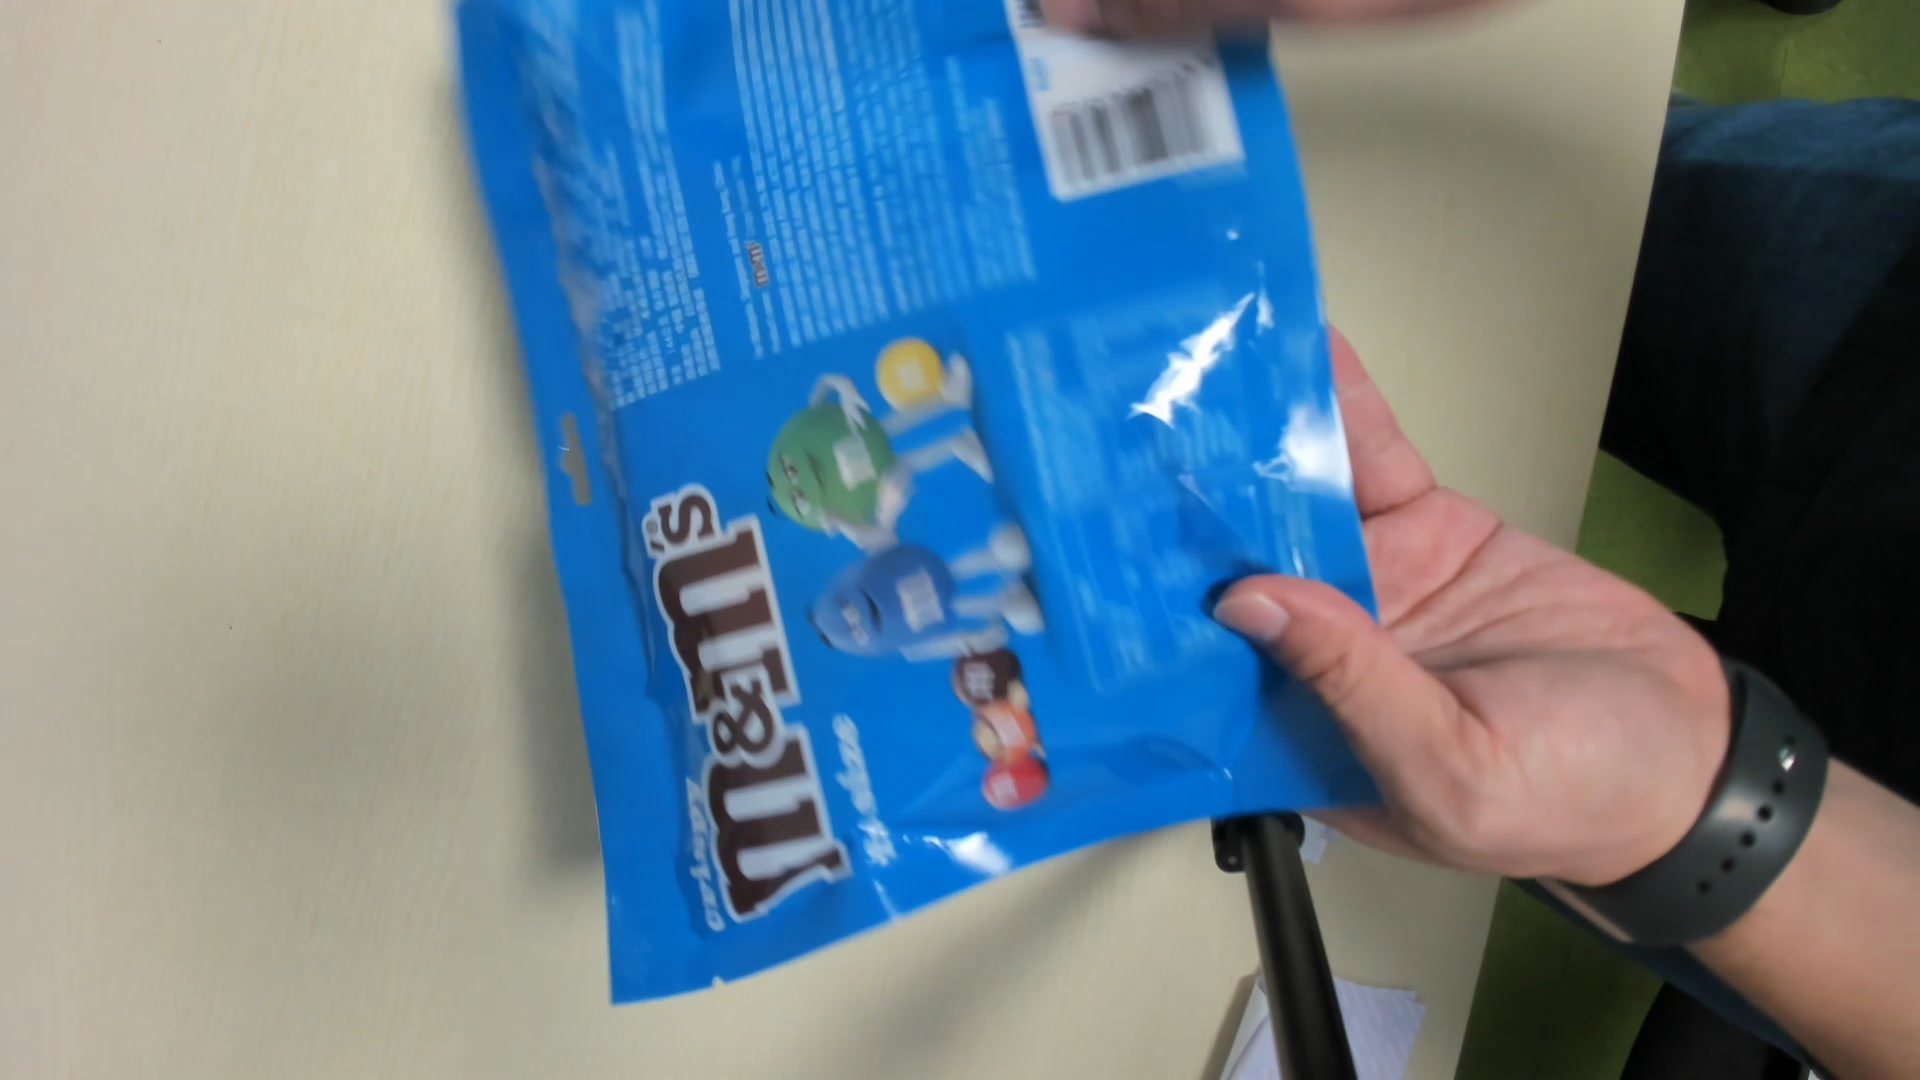SweetsChocolatesOthers_100-199g_Halal_Nonhealthy: (444, 7, 1385, 1015)
